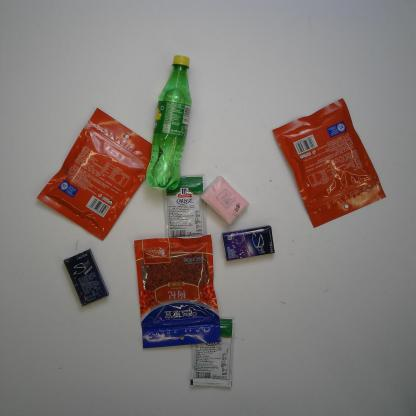Dried Fruit: (36, 106, 153, 243), (272, 97, 388, 230), (133, 233, 223, 350)
Drink: (145, 53, 194, 192)
Gum: (62, 247, 111, 307), (221, 224, 276, 262)
Seasoner: (189, 315, 237, 389), (162, 176, 208, 240)
Tissue: (199, 175, 250, 226)
